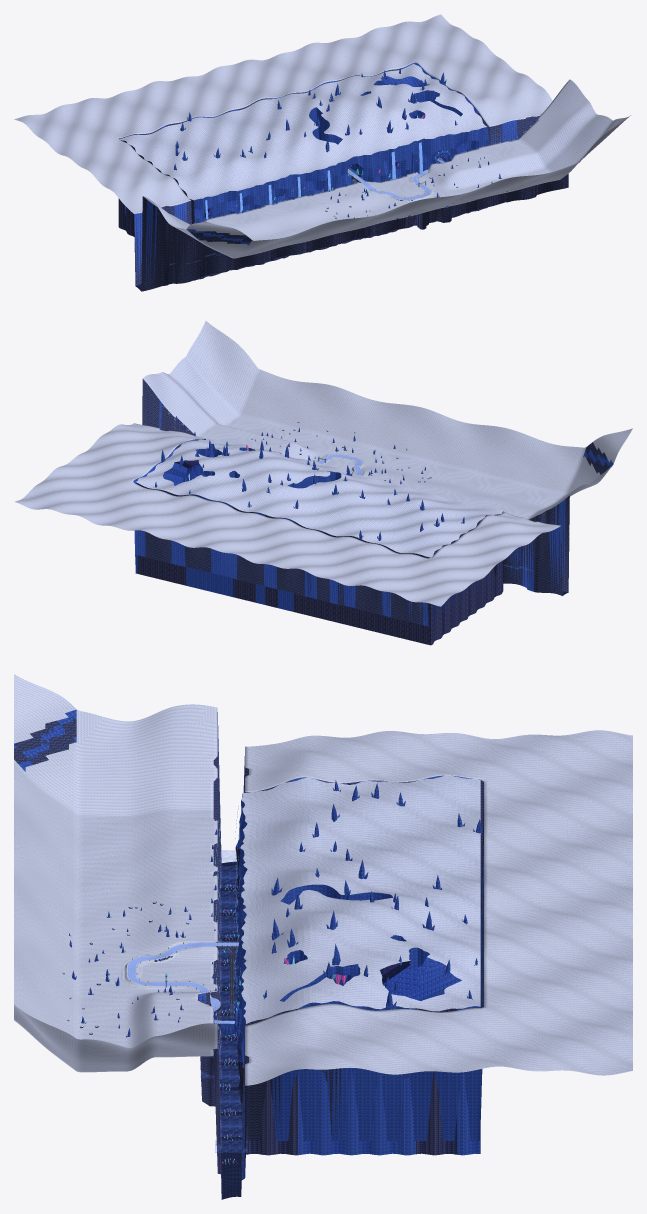
3 views of the same model, one above another, from view 1: azimuth 30°, elevation 25°; view 2: azimuth 150°, elevation 25°; view 3: azimuth 270°, elevation 25° (orthographic). The views are drawn at different scales.
Parts seen in each view (by area): view 1: Land, Glacier; view 2: Land, Glacier; view 3: Land, Glacier.
Boxes of the visible parts, left/top/right/bottom form: Land: left=14, top=14, right=630, bottom=291; Glacier: left=118, top=63, right=488, bottom=280; Land: left=14, top=320, right=632, bottom=626; Glacier: left=135, top=439, right=503, bottom=645; Land: left=14, top=674, right=632, bottom=1199; Glacier: left=235, top=775, right=480, bottom=1155.
Size of the model in its own units: 1620 by 467 by 1260.
Materials: 31 (31 with a texture image).
